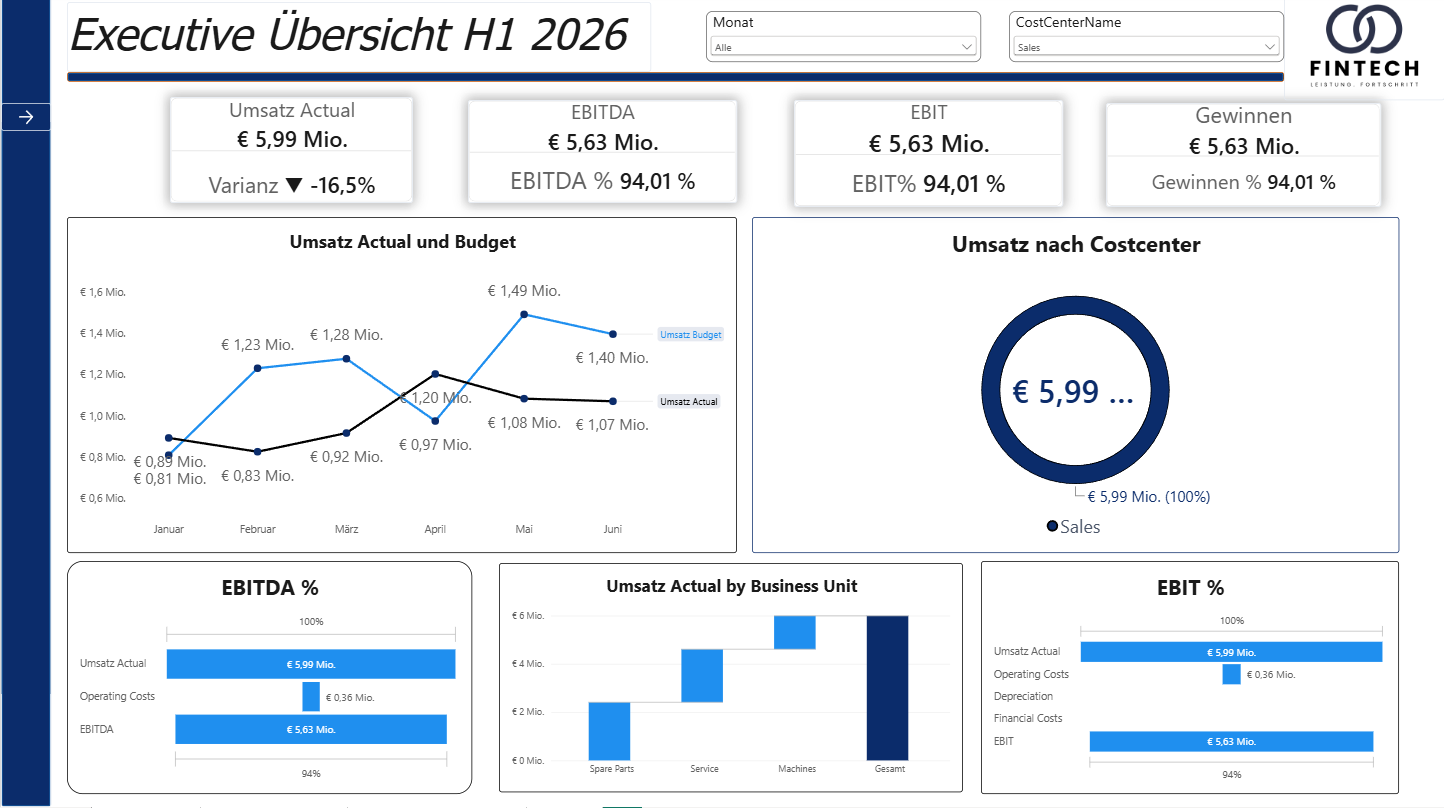

This screenshot's page, from the dashboard's own definition file:
{"tool":"powerbi","page":{"name":"Executive Übersicht","canvas":[1920,1080],"ordinal":1},"visuals":[{"type":"shape","box":[87.8,102.4,1618.7,13.3],"z":0},{"type":"cardVisual","fields":{"Data":["A_Berechnete.EBITDA"]},"box":[621.1,139.7,357.8,137],"z":0,"group":"g3"},{"type":"cardVisual","fields":{"Data":["A_Berechnete.Gross Profit"]},"box":[1469.7,143.6,365.8,138.3],"z":0,"group":"g2"},{"type":"lineChart","title":"Umsatz Actual und Budget","fields":{"Category":["DimDate.YearMonth.Variation.Datumshierarchie.Monat"],"Y":["A_Berechnete.Revenue Budget","A_Berechnete.Umsatz Actual"]},"box":[87.8,295.3,891.1,446.9],"z":1000},{"type":"textbox","box":[87.8,9.3,776.7,93.1],"z":2000},{"type":"donutChart","title":"Umsatz nach Costcenter","fields":{"Category":["DimCostCenter.CostCenterName"],"Y":["A_Berechnete.Revenue Actual"]},"box":[998.9,295.3,860.5,446.9],"z":3000},{"type":"group","id":"g1","title":"Gruppe 2","box":[224.8,135.7,323.2,141],"z":4000},{"type":"group","id":"g2","title":"Gruppe 3","box":[1469.7,143.6,365.8,138.3],"z":5000},{"type":"group","id":"g3","title":"Gruppe 4","box":[621.1,139.7,357.8,137],"z":6000},{"type":"cardVisual","fields":{"Data":["A_Berechnete.Revenue Actual"]},"box":[224.8,135.7,323.2,141],"z":7000,"group":"g1"},{"type":"group","id":"g4","title":"Gruppe 5","box":[1054.7,139.7,357.8,142.3],"z":7000},{"type":"cardVisual","fields":{"Data":["A_Berechnete.EBIT"]},"box":[1054.7,139.7,357.8,142.3],"z":7000,"group":"g4"},{"type":"image","box":[1706.5,0,214.1,139.7],"z":8000},{"type":"funnel","title":"EBITDA %","fields":{"Y":["A_Berechnete.Revenue Actual","A_Berechnete.Operating Costs","A_Berechnete.EBITDA"]},"box":[87.8,752.8,538.7,309.9],"z":9000},{"type":"funnel","title":"EBIT %","fields":{"Y":["A_Berechnete.Revenue Actual","A_Berechnete.Operating Costs","A_Berechnete.Depreciation","A_Berechnete.Financial Costs","A_Berechnete.EBIT"]},"box":[1303.4,752.8,556,309.9],"z":10000},{"type":"shape","box":[0,0,66.5,1080],"z":11000},{"type":"waterfallChart","title":"Umsatz Actual by Business Unit","fields":{"Y":["A_Berechnete.Revenue Actual"],"Category":["DimBusinessUnit.BusinessUnitName"]},"box":[662.4,755.5,617.1,304.6],"z":12000},{"type":"slicer","fields":{"Values":["DimDate.YearMonth.Variation.Datumshierarchie.Monat"]},"box":[937.7,21.3,365.8,67.8],"z":13000},{"type":"actionButton","box":[0,143.6,66.5,37.2],"z":14000},{"type":"slicer","fields":{"Values":["DimCostCenter.CostCenterName"]},"box":[1340.7,21.3,365.8,67.8],"z":14001}]}

Visuals, with their boxes on the page's 1920x1080 design canvas (x1, y1, x2, y2). These are canvas units, not pixel positions in the 1444x808 screenshot, which may show the page scaled, cropped or inside an application window:
shape: (x1=88, y1=102, x2=1706, y2=116)
cardVisual - A_Berechnete.EBITDA: (x1=621, y1=140, x2=979, y2=277)
cardVisual - A_Berechnete.Gross Profit: (x1=1470, y1=144, x2=1836, y2=282)
"Umsatz Actual und Budget" lineChart: (x1=88, y1=295, x2=979, y2=742)
textbox: (x1=88, y1=9, x2=864, y2=102)
"Umsatz nach Costcenter" donutChart: (x1=999, y1=295, x2=1859, y2=742)
"Gruppe 2" group: (x1=225, y1=136, x2=548, y2=277)
"Gruppe 3" group: (x1=1470, y1=144, x2=1836, y2=282)
"Gruppe 4" group: (x1=621, y1=140, x2=979, y2=277)
cardVisual - A_Berechnete.Revenue Actual: (x1=225, y1=136, x2=548, y2=277)
"Gruppe 5" group: (x1=1055, y1=140, x2=1412, y2=282)
cardVisual - A_Berechnete.EBIT: (x1=1055, y1=140, x2=1412, y2=282)
image: (x1=1706, y1=0, x2=1921, y2=140)
"EBITDA %" funnel: (x1=88, y1=753, x2=626, y2=1063)
"EBIT %" funnel: (x1=1303, y1=753, x2=1859, y2=1063)
shape: (x1=0, y1=0, x2=66, y2=1080)
"Umsatz Actual by Business Unit" waterfallChart: (x1=662, y1=756, x2=1280, y2=1060)
slicer - DimDate.YearMonth.Variation.Datumshierarchie.Monat: (x1=938, y1=21, x2=1304, y2=89)
actionButton: (x1=0, y1=144, x2=66, y2=181)
slicer - DimCostCenter.CostCenterName: (x1=1341, y1=21, x2=1706, y2=89)
